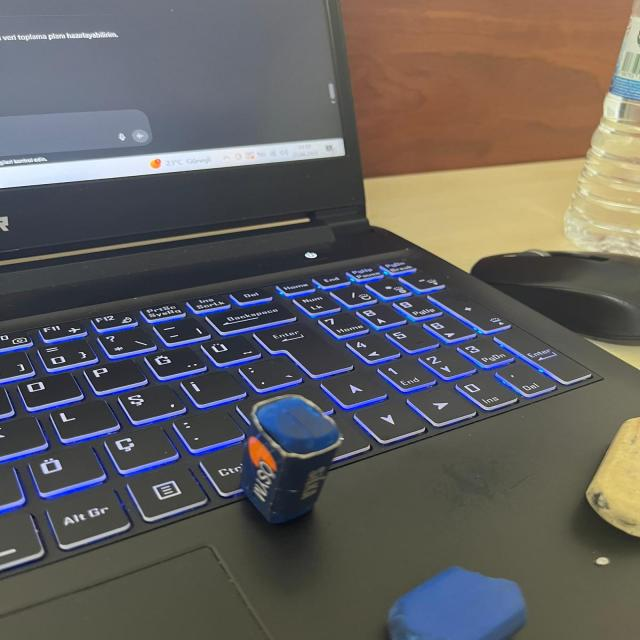eraser: (231, 391, 350, 530), (376, 556, 526, 640), (574, 406, 640, 542)
